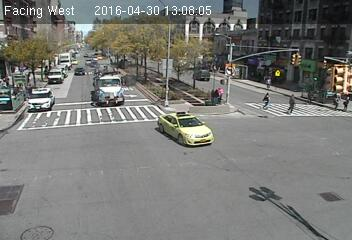neg: (286, 149, 310, 181), (87, 177, 109, 207), (279, 41, 301, 71), (86, 7, 107, 34), (229, 183, 248, 208), (244, 5, 262, 30), (19, 162, 37, 186), (120, 133, 136, 155), (100, 83, 116, 103), (149, 66, 164, 85), (28, 208, 42, 226), (16, 95, 30, 112), (71, 64, 84, 82), (212, 12, 224, 29), (164, 107, 175, 122), (149, 5, 160, 19), (316, 35, 326, 49)
pos: (279, 90, 300, 118), (259, 87, 277, 111), (329, 89, 345, 110), (213, 83, 227, 102), (305, 85, 319, 104), (209, 86, 222, 104), (341, 93, 351, 111), (263, 74, 274, 90)
